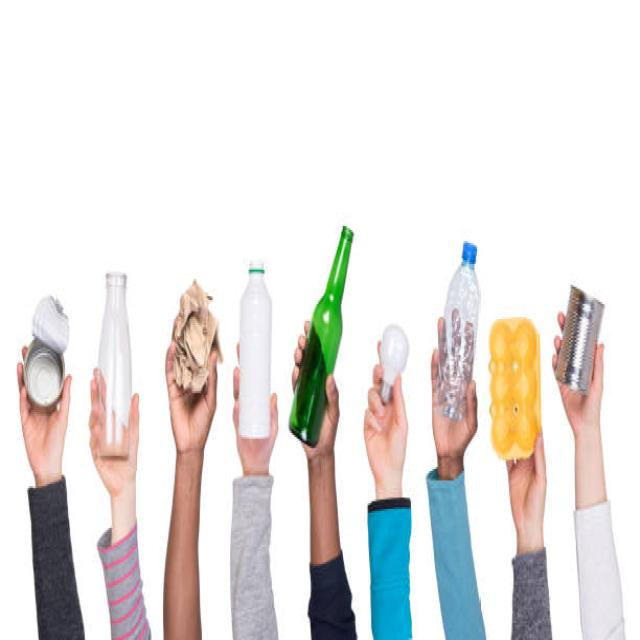cardboard: (437, 241, 476, 446), (488, 314, 541, 459)
glass: (288, 216, 356, 446), (93, 262, 134, 467), (234, 256, 276, 440), (374, 319, 411, 382)
metal: (560, 281, 608, 406), (22, 287, 69, 412)
paper: (171, 285, 209, 385)
